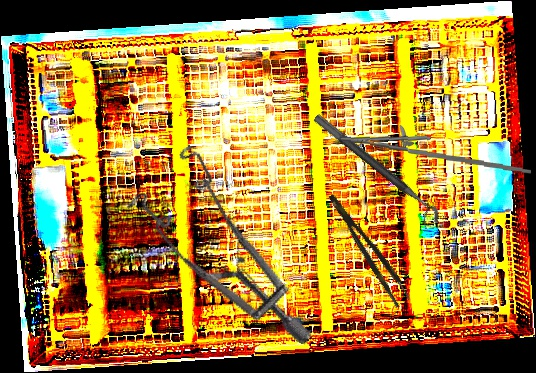Fixation Ring: (304, 112, 445, 233)
Needle Holder: (340, 122, 533, 174)
Speculum: (102, 131, 361, 347)
Tissue Forceps: (326, 187, 413, 309)
